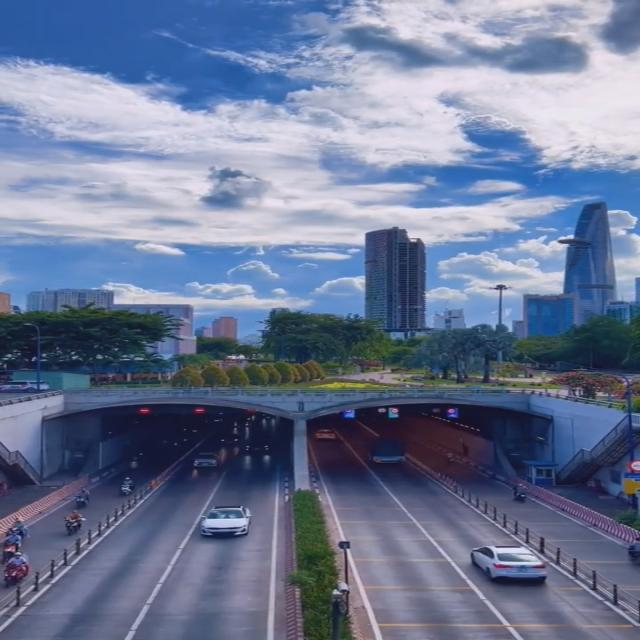car: (474, 544, 548, 582), (199, 504, 251, 537), (194, 451, 218, 468)
motorbike: (4, 551, 26, 587), (63, 509, 84, 535), (1, 532, 22, 557), (7, 518, 31, 536), (76, 488, 91, 508), (513, 482, 528, 502), (120, 477, 134, 495)
truck: (369, 436, 408, 464)
